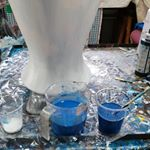cups: (93, 85, 134, 139), (1, 89, 28, 135)
